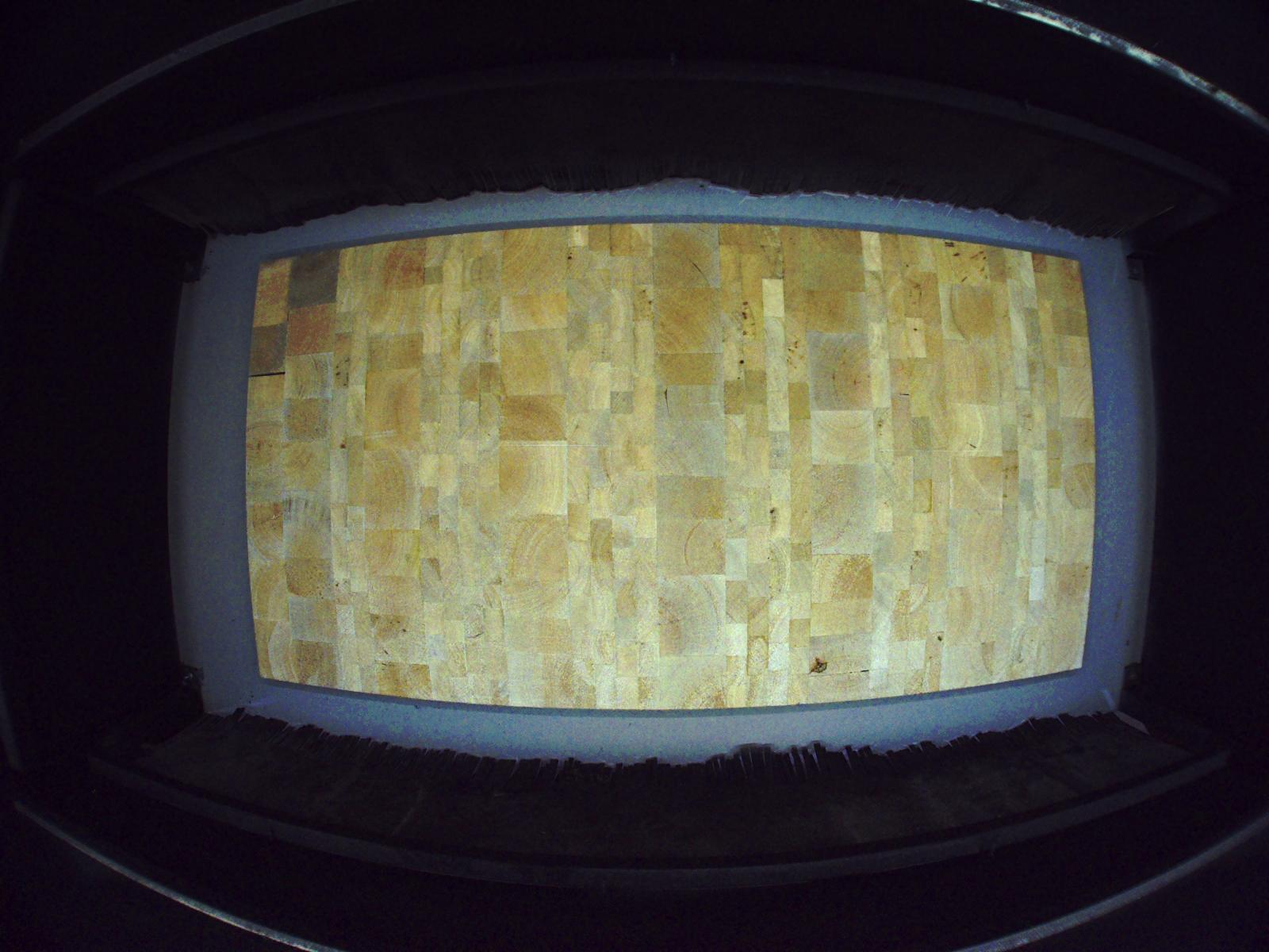nudillo: (808, 655, 829, 674)
